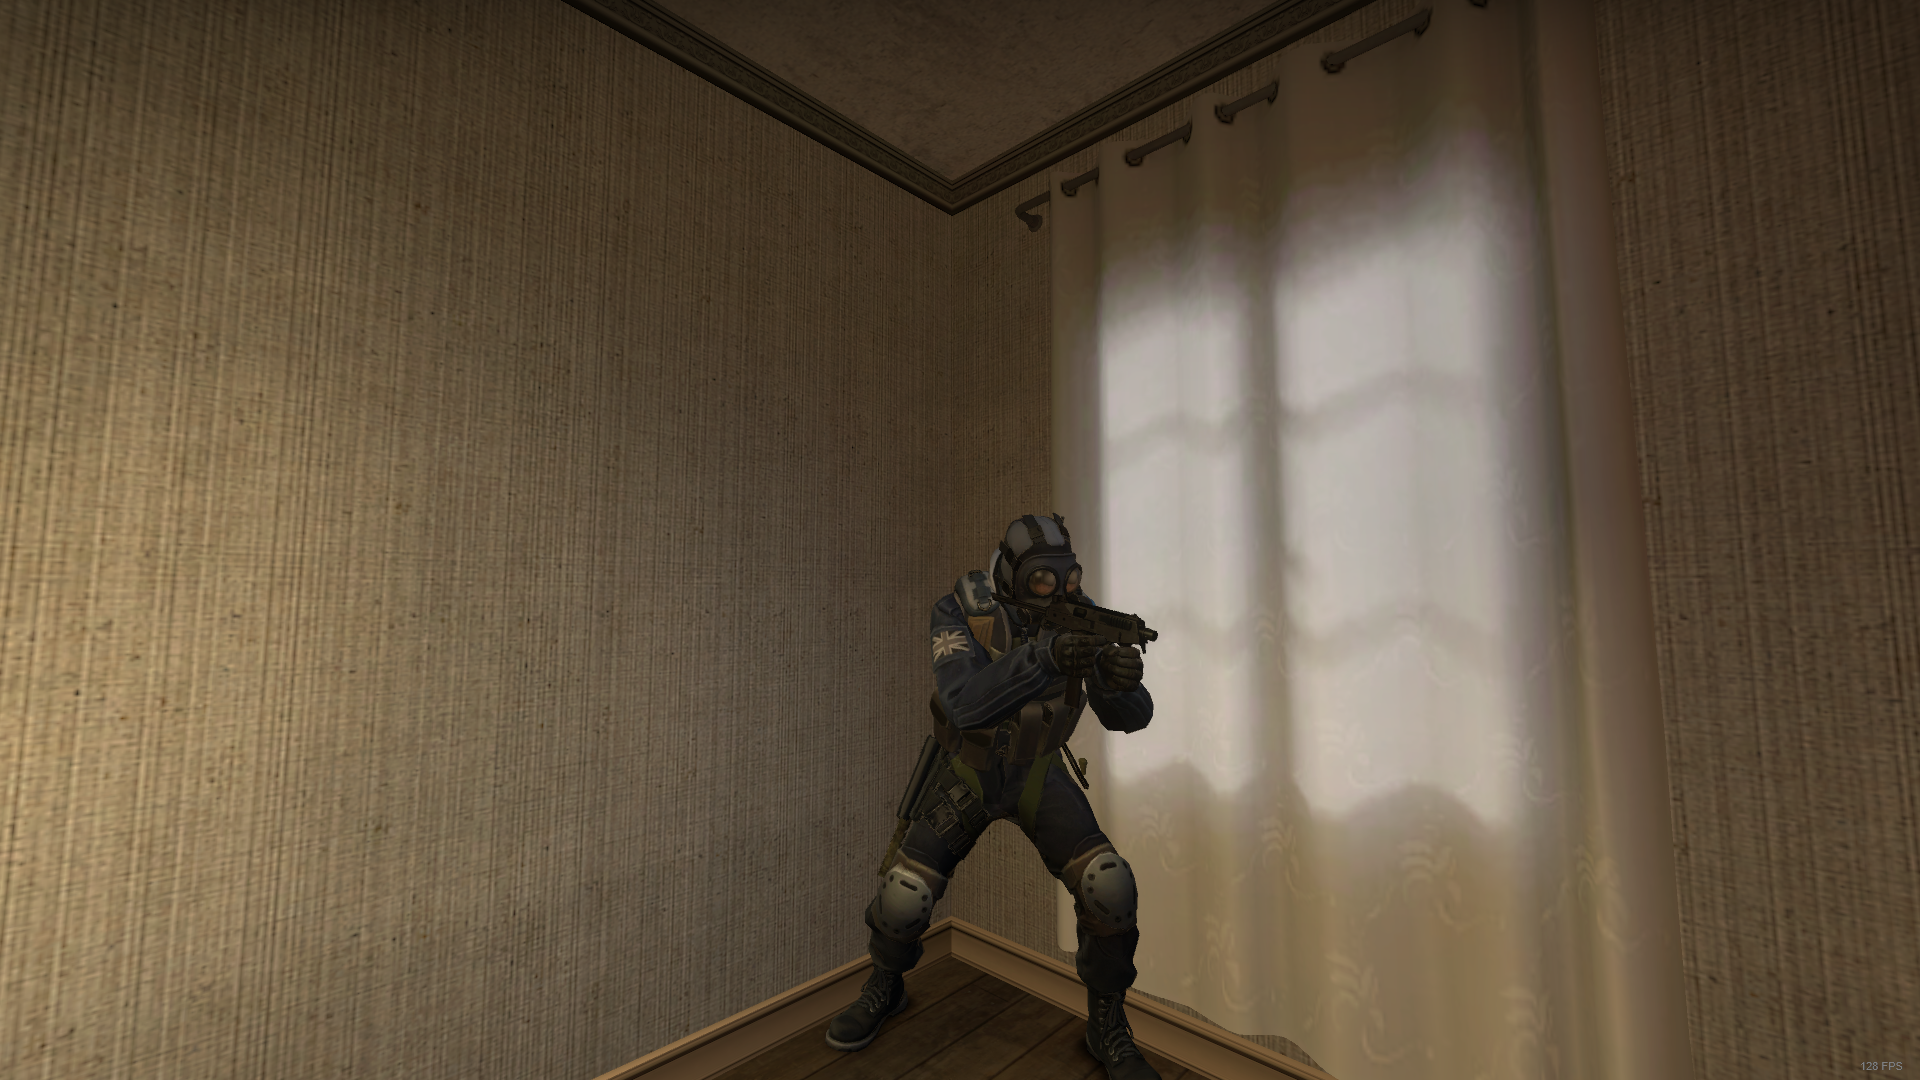ct: (808, 508, 1185, 1080)
